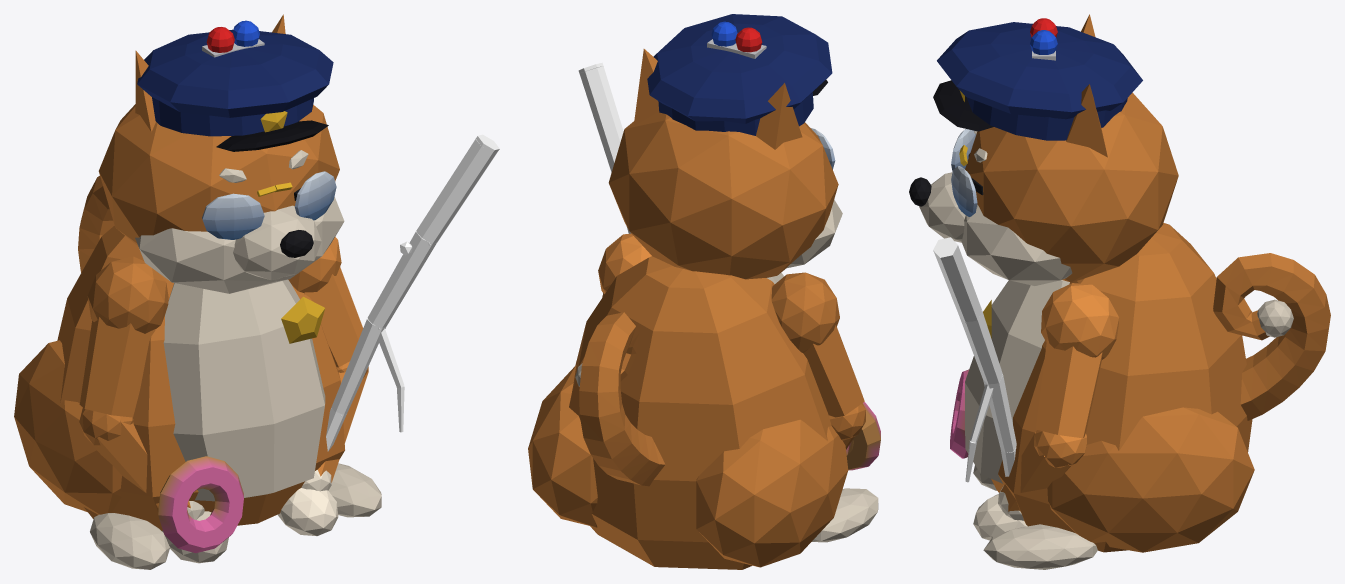
The model's file is PoliceShiba.fbx.
The picture shows the model from 3 angles, left to right: view 1: azimuth 30°, elevation 25°; view 2: azimuth 150°, elevation 25°; view 3: azimuth 270°, elevation 25°; orthographic projection. The views are drawn at different scales.
Parts seen in each view (by area): view 1: Body, Stick, ThrowArm; view 2: Body, Stick, ThrowArm; view 3: Body, ThrowArm, Stick.
Boxes of the visible parts, <box> form: Body: <box>14,14,381,569</box>; Stick: <box>326,134,499,451</box>; ThrowArm: <box>277,236,368,536</box>; Body: <box>528,14,880,569</box>; Stick: <box>578,62,630,233</box>; ThrowArm: <box>598,233,651,297</box>; Body: <box>909,14,1330,569</box>; ThrowArm: <box>973,283,1119,540</box>; Stick: <box>933,237,1016,482</box>.
Bounding box in the file's own units: 1.01 × 1.35 × 1.06.
